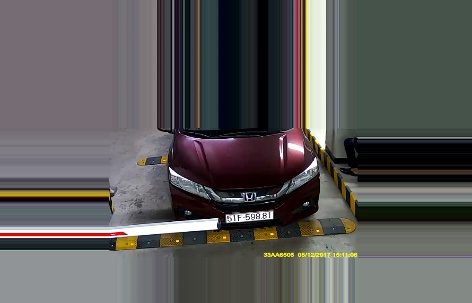plate: (224, 209, 275, 225)
